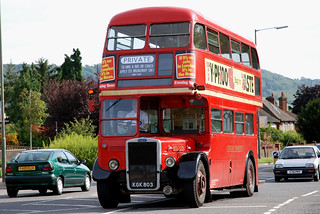bus: (92, 6, 263, 209)
car: (5, 148, 92, 196), (271, 144, 320, 181)
